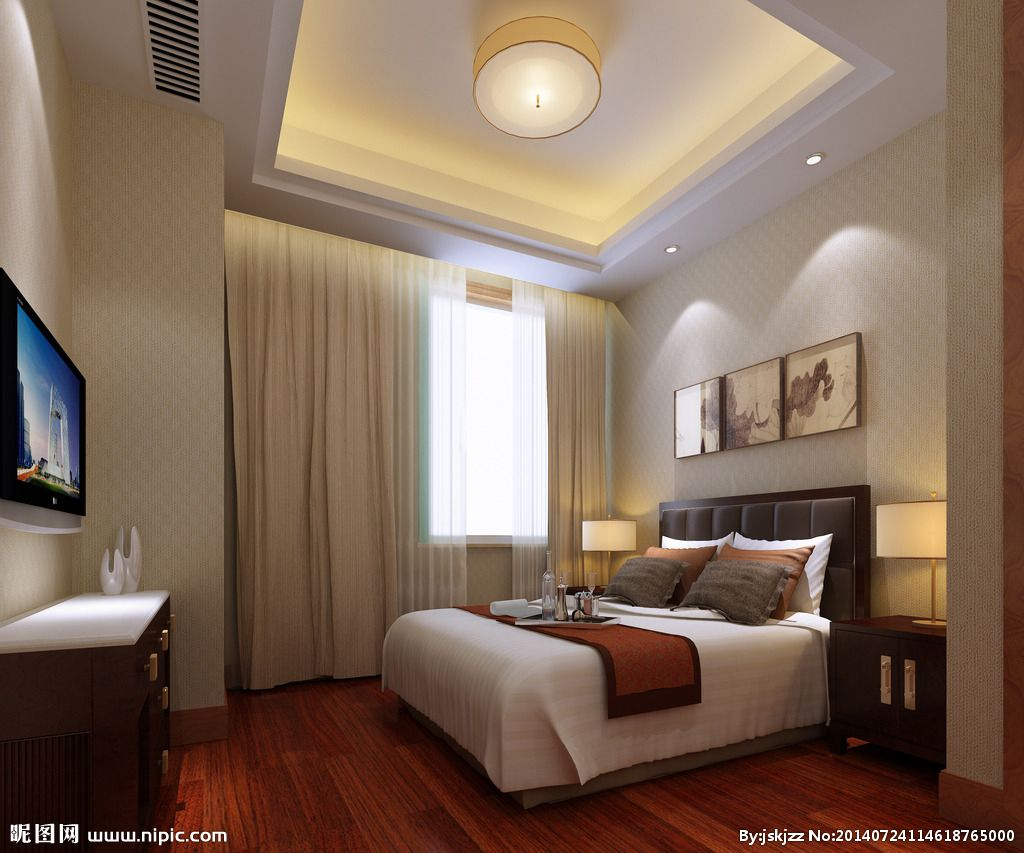床: (372, 590, 846, 793)
枕头: (601, 532, 843, 624)
灯: (474, 17, 615, 146), (880, 502, 950, 630), (580, 515, 642, 597), (806, 150, 834, 174), (661, 242, 689, 262)
